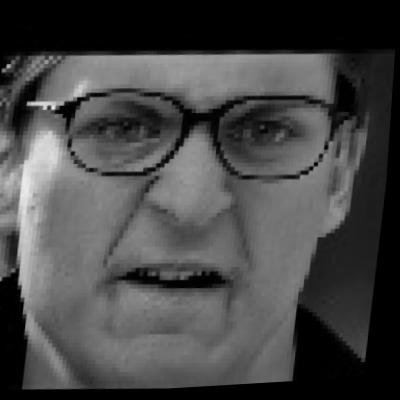angry: (15, 39, 338, 375)
